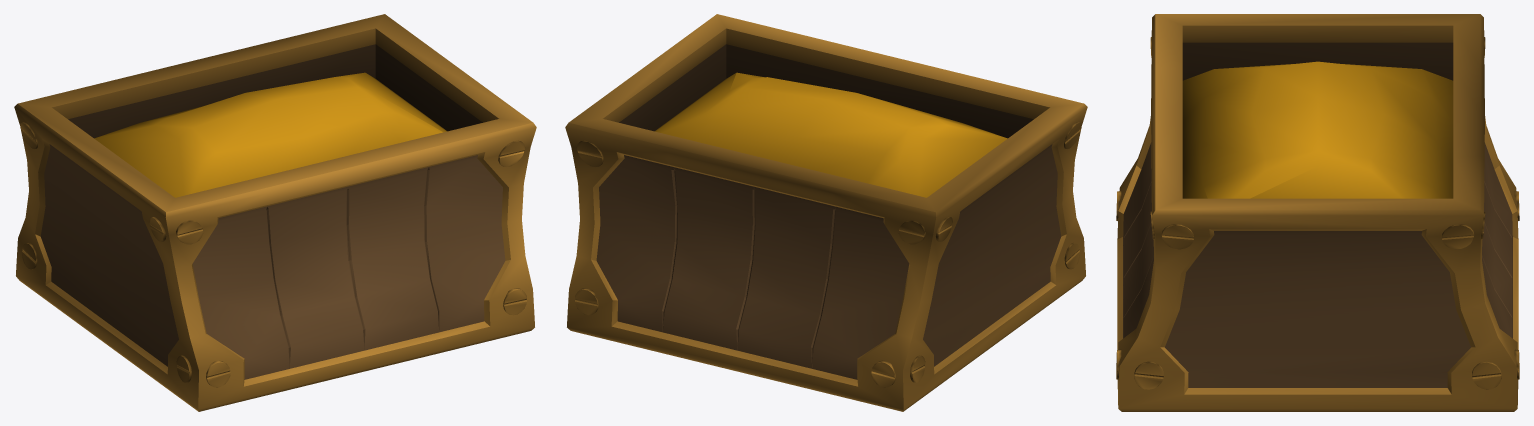
Rendered from obj_chestOpen_body.FBX.
3 renders of one model, left to right at view 1: azimuth 30°, elevation 25°; view 2: azimuth 150°, elevation 25°; view 3: azimuth 270°, elevation 25°, orthographic. The views are drawn at different scales.
Visible parts, largest first — view 1: obj_chestOpen_body; view 2: obj_chestOpen_body; view 3: obj_chestOpen_body.
Boxes of the visible parts, x1,y1,x2,y2 form: obj_chestOpen_body: [14, 14, 536, 411]; obj_chestOpen_body: [565, 14, 1087, 411]; obj_chestOpen_body: [1116, 14, 1519, 411].
Size of the model in its own units: 1.99 by 1.05 by 1.71.
